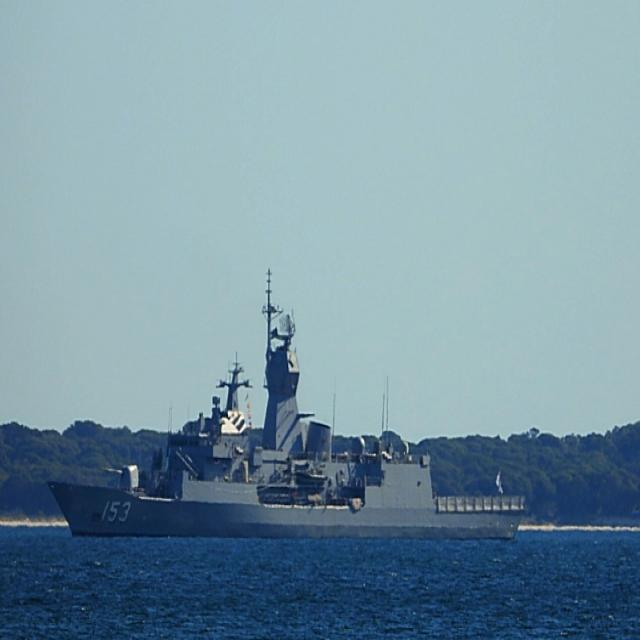Fragata: (44, 262, 530, 546)
